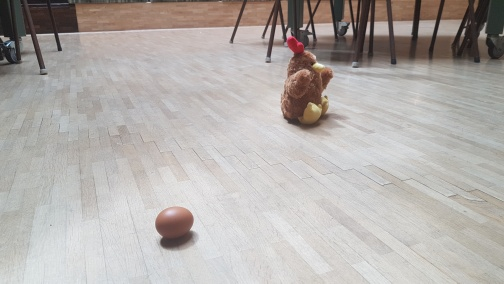chicken: (278, 34, 335, 127)
egg: (154, 205, 196, 241)
